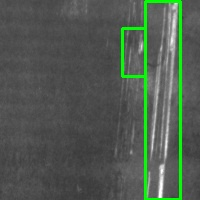scratches: (145, 1, 180, 199), (122, 28, 145, 76)
